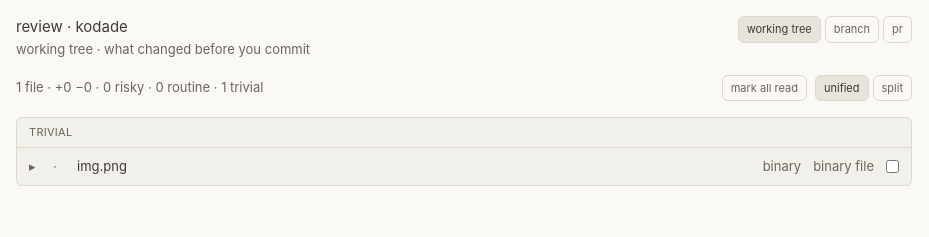
Scenario: ReviewPane › renders a binary file as a stat-only row, no editor
Click the button "▸ · img.png binary binary file". click: (102,166)
box: [29,158,874,175]
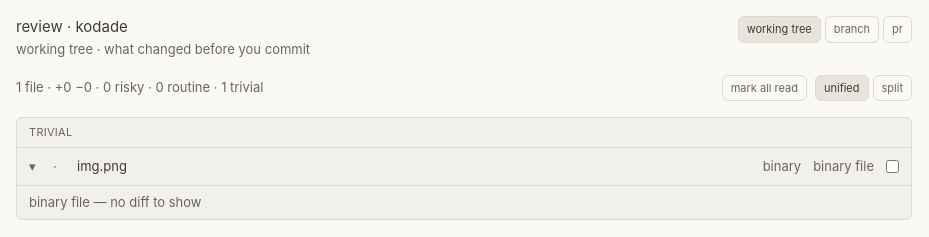
Result: the text "binary file — no diff to show" is shown at [29,194,202,210]
